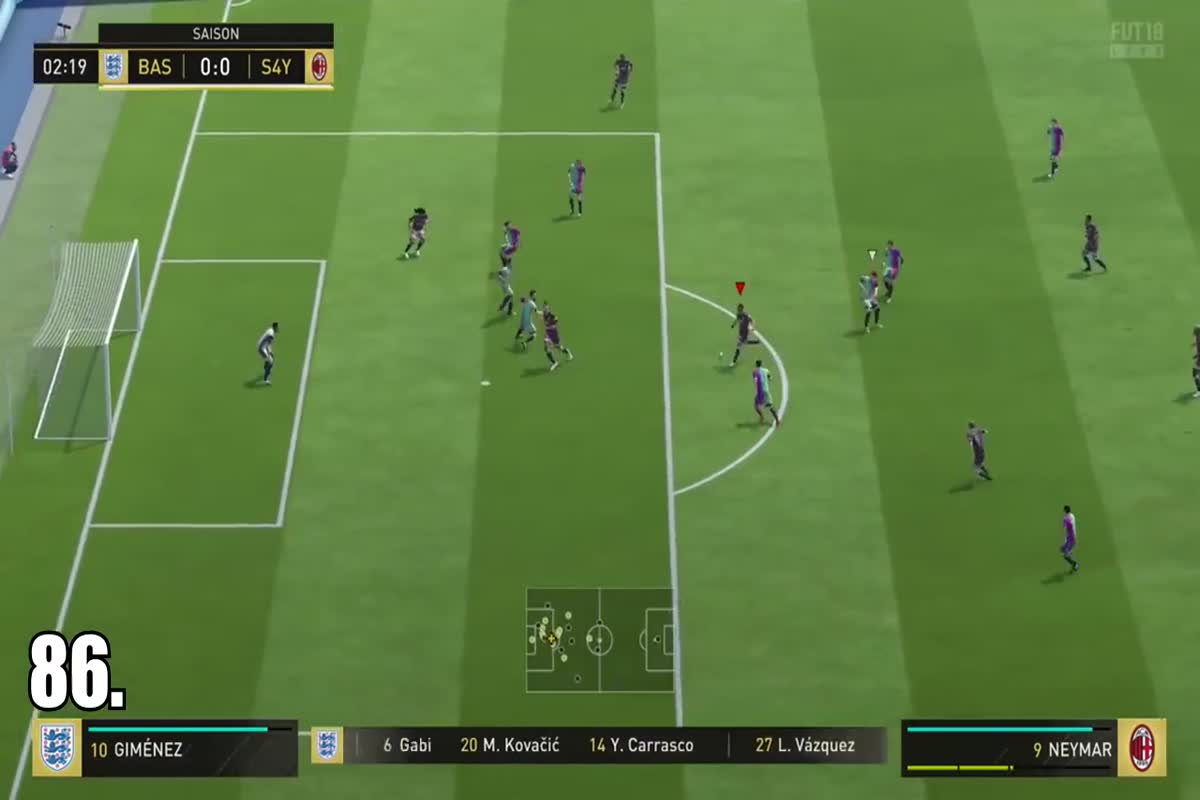ball: (711, 339, 729, 367)
